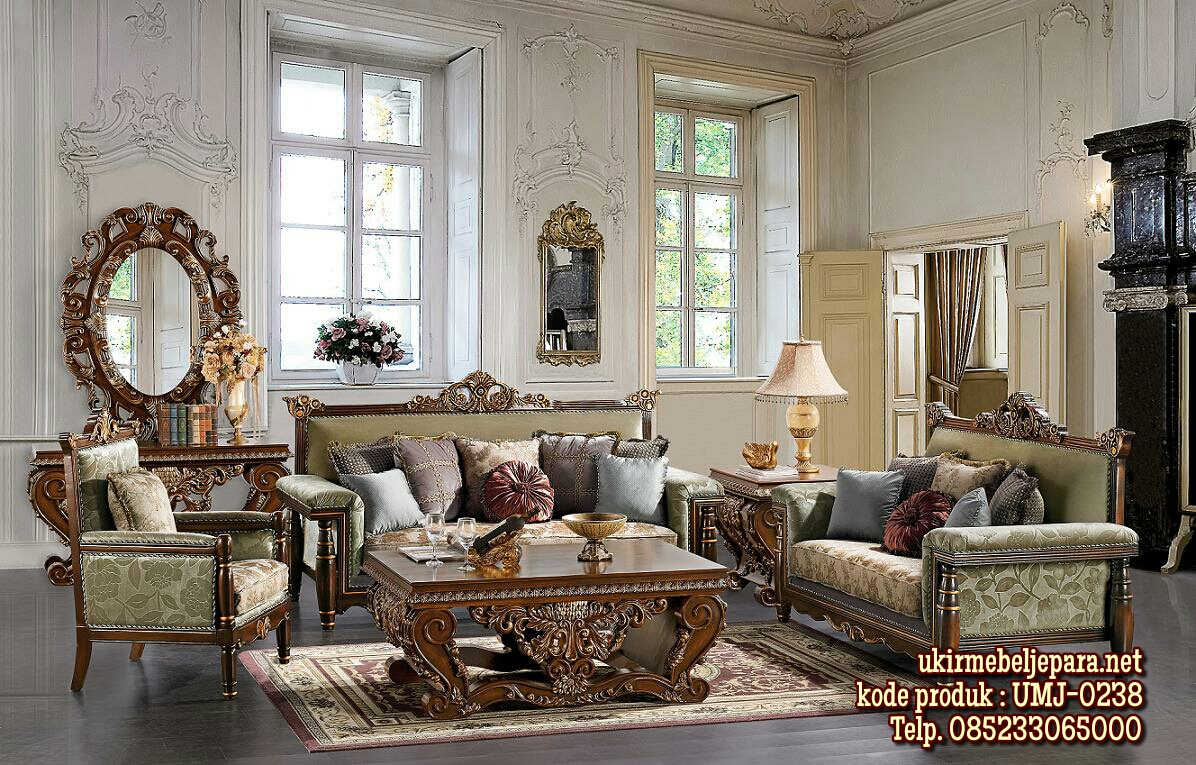Carving Chair: (789, 402, 1145, 695), (47, 421, 310, 698)
Carving Table: (365, 543, 741, 722)
